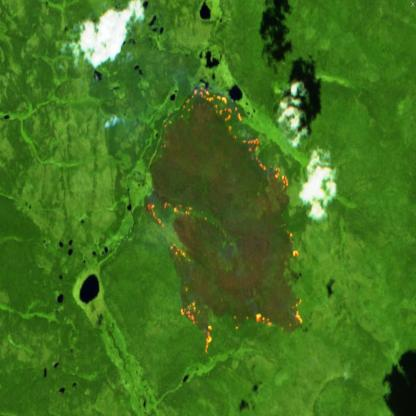fire: (141, 199, 311, 369), (177, 76, 294, 191)
